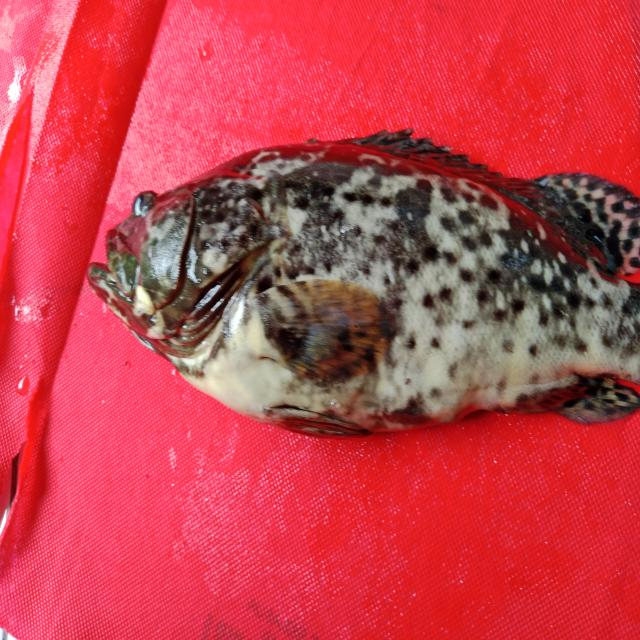ikan: (76, 109, 635, 441)
